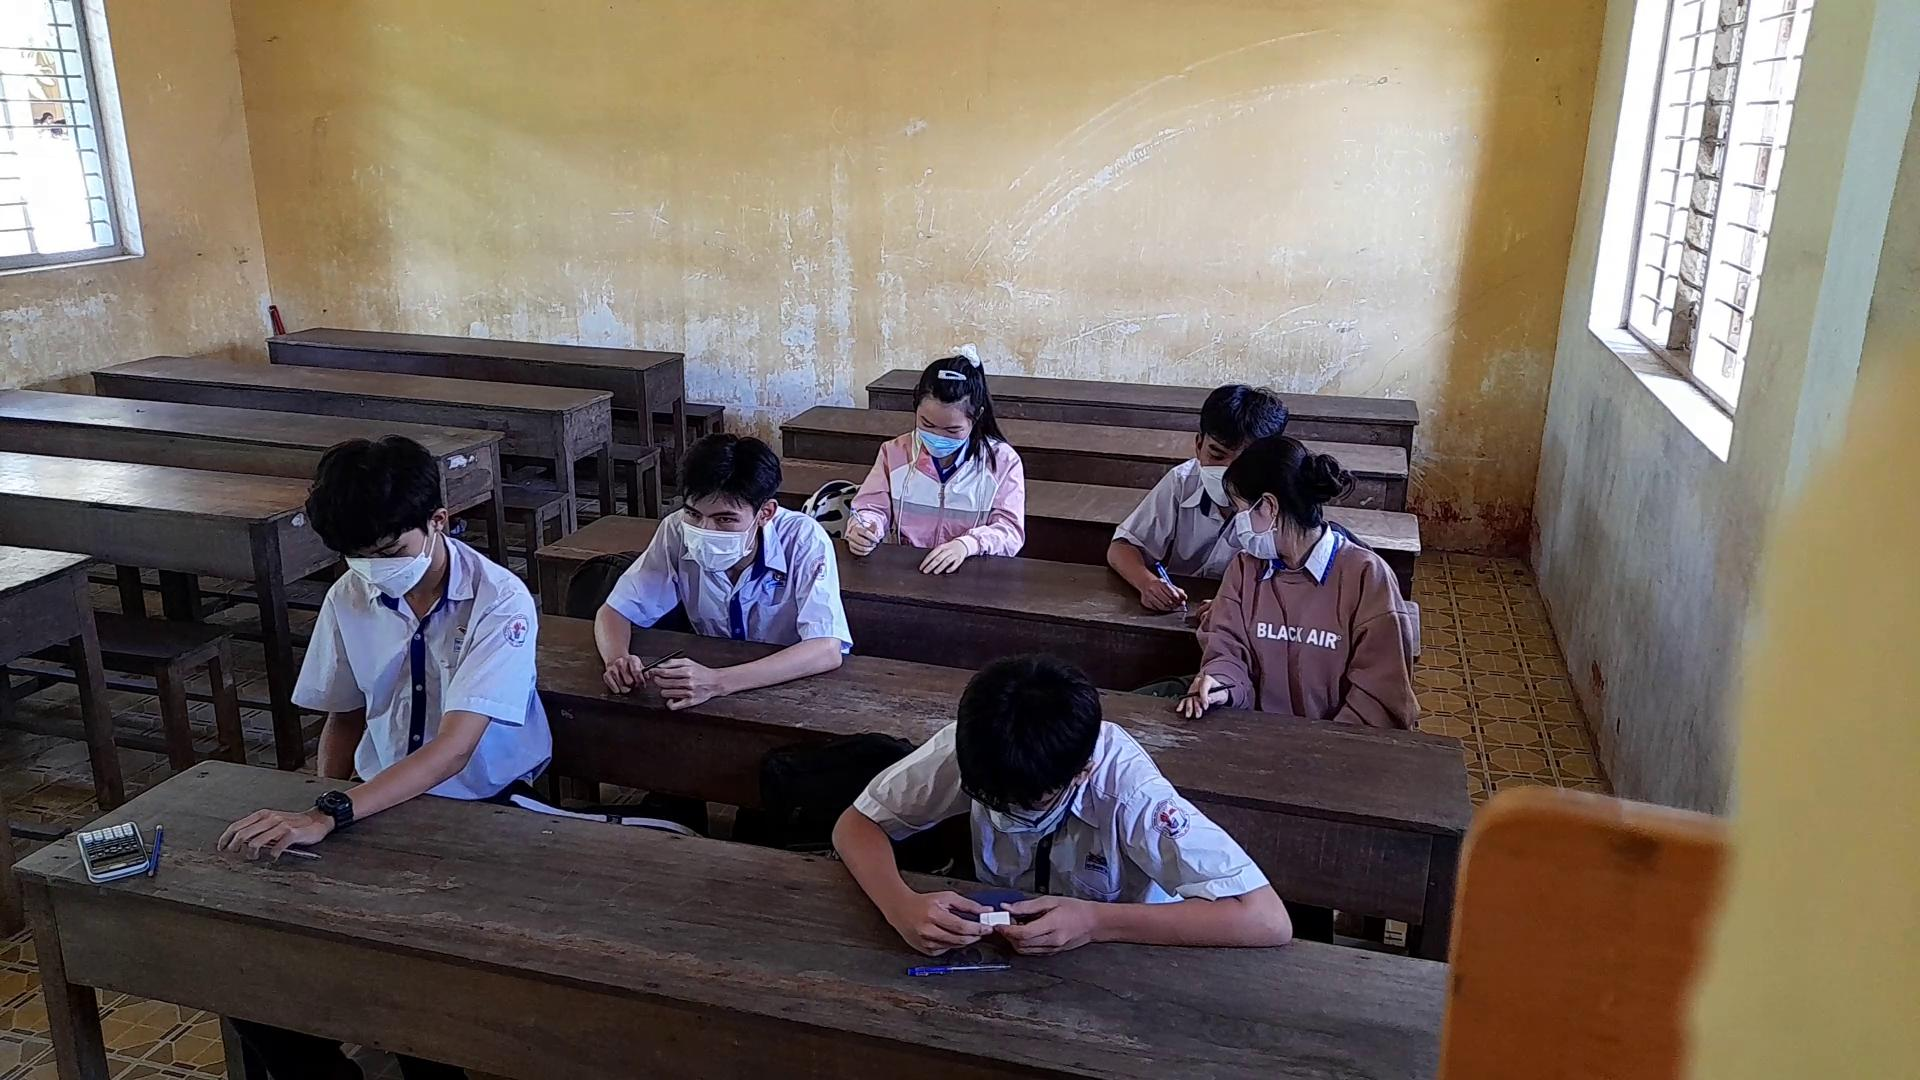Hand Under Table: (299, 579, 371, 781), (1331, 543, 1400, 745)
Look Around: (1221, 438, 1349, 574)
